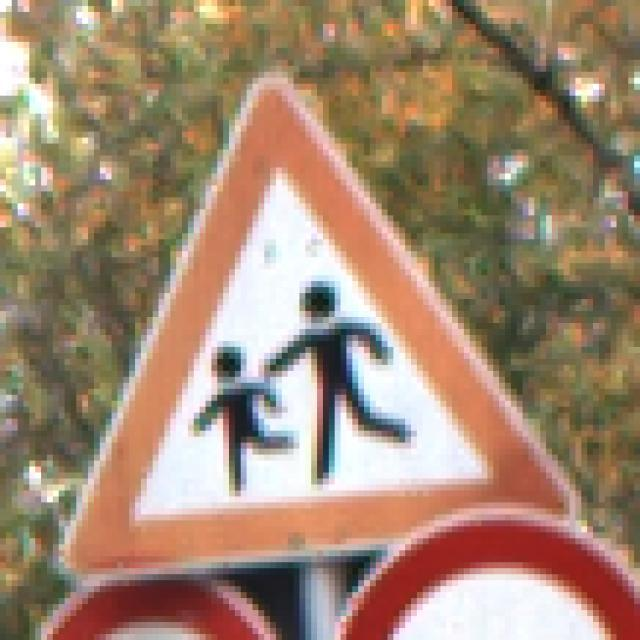school ahead: (65, 77, 563, 580)
